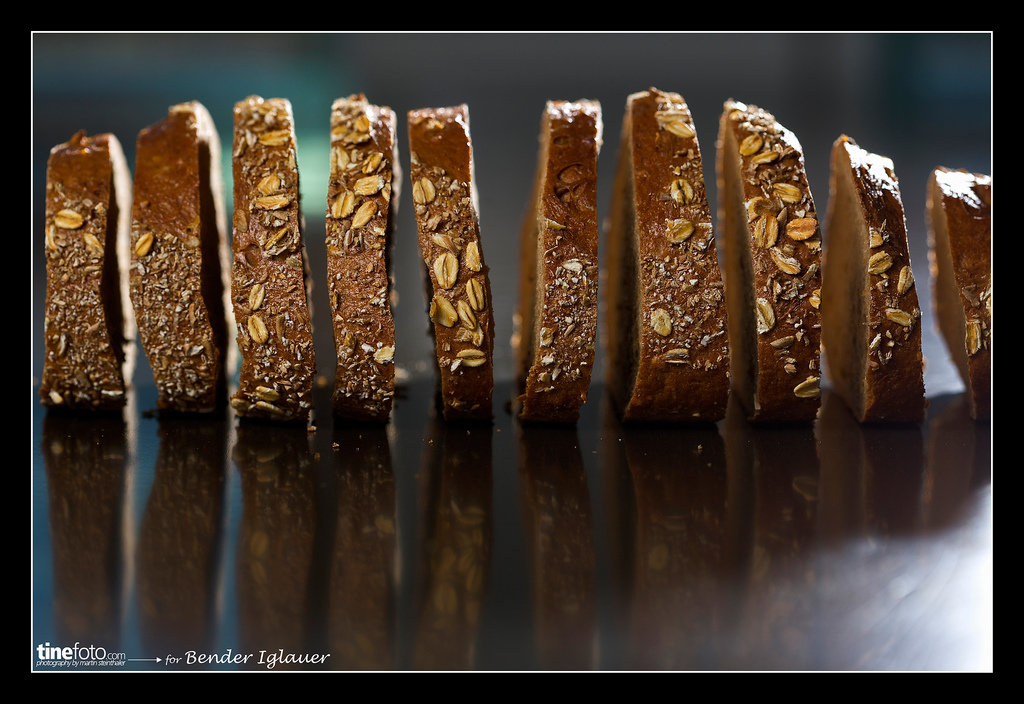slice of bread: (52, 139, 981, 406)
